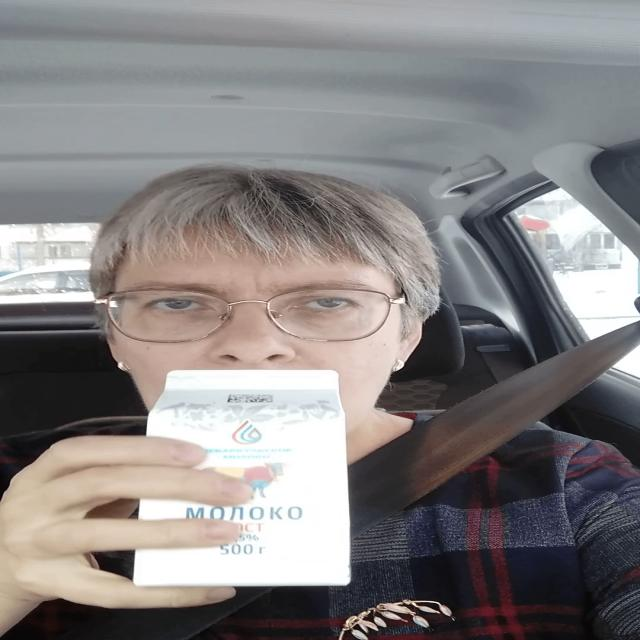3: (350, 354, 630, 534)
Seatbelt: (116, 366, 360, 611)
